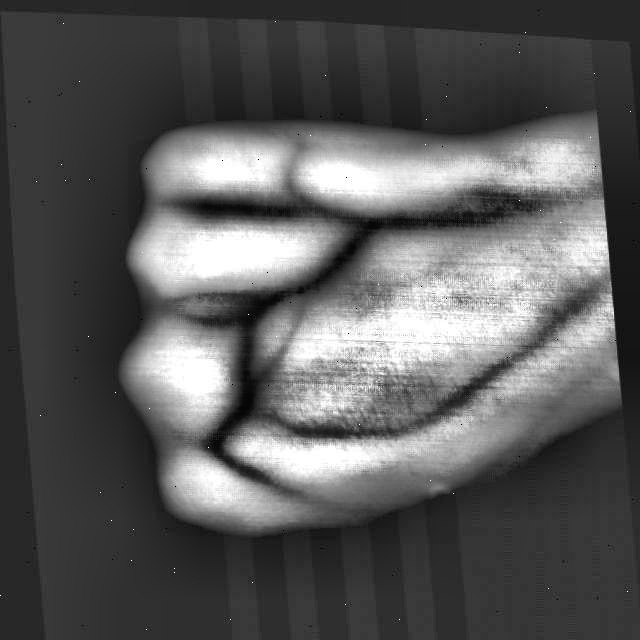Vein: (399, 311, 570, 439), (386, 200, 548, 234)
